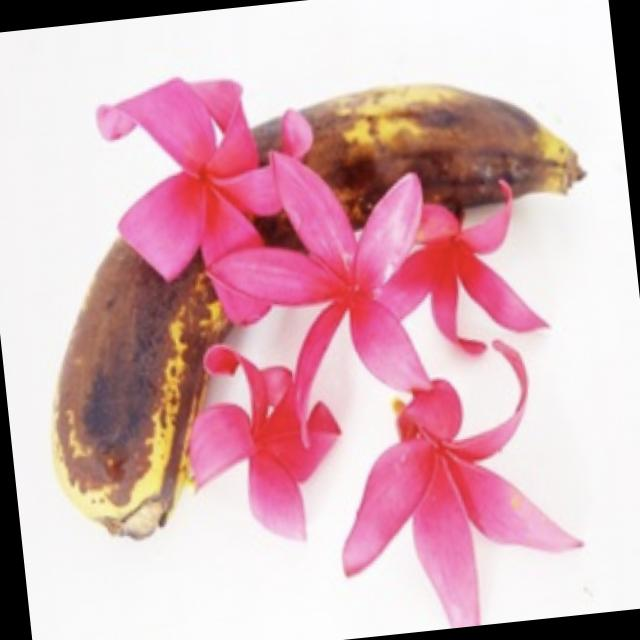rotten-banana: (20, 43, 624, 546)
